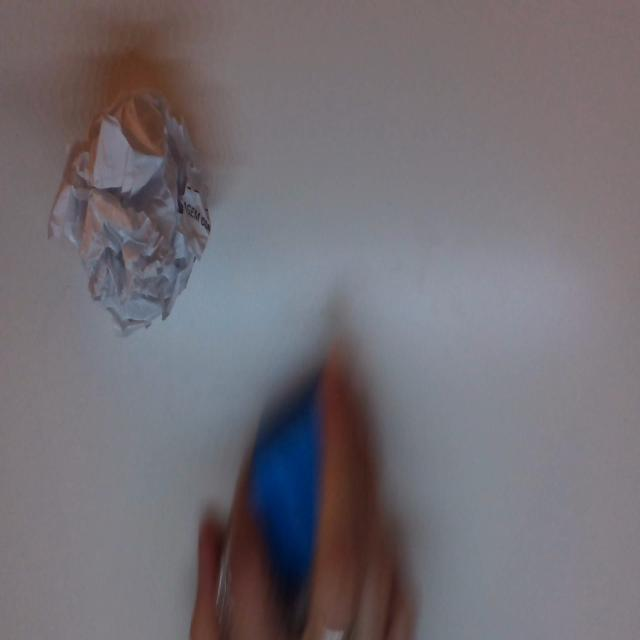Paper: (50, 104, 212, 330)
